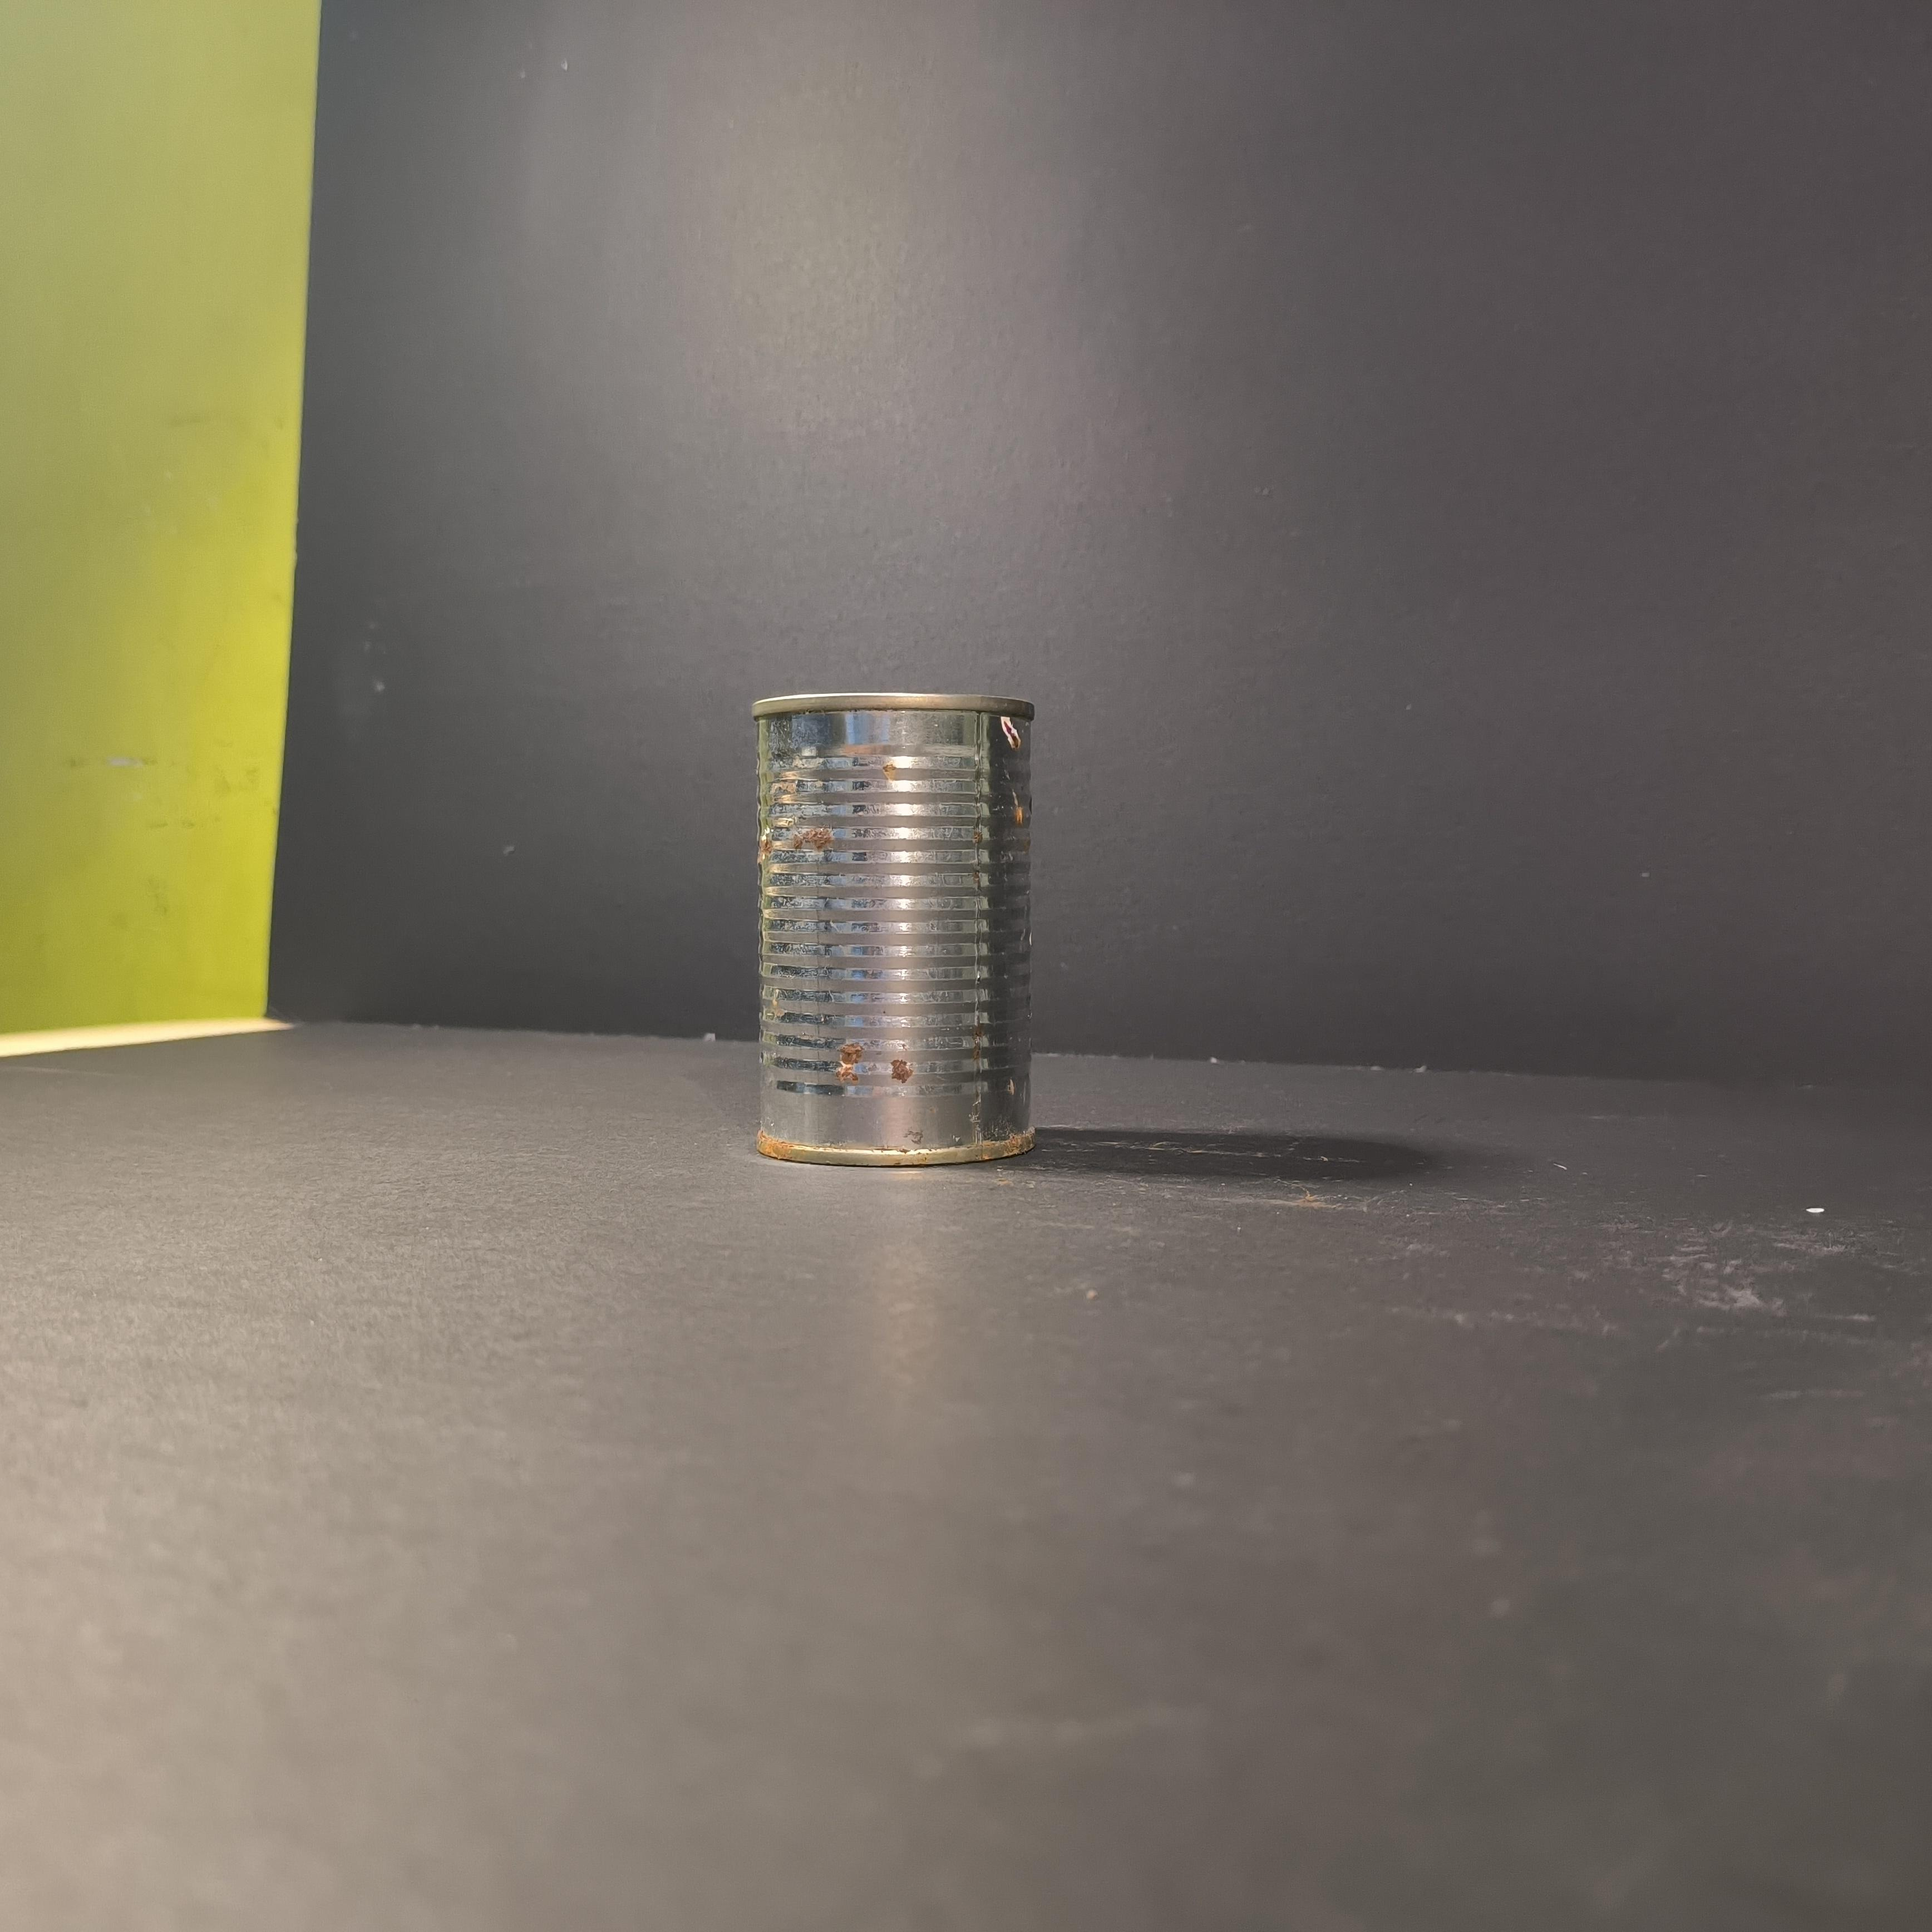Rusted: (738, 679, 1060, 1171)
